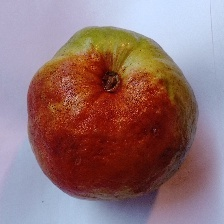guava: (28, 38, 185, 211)
